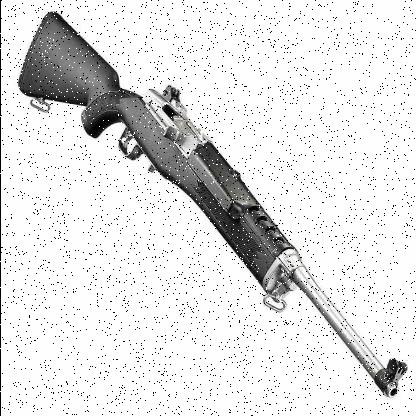rifle: (15, 3, 410, 403)
